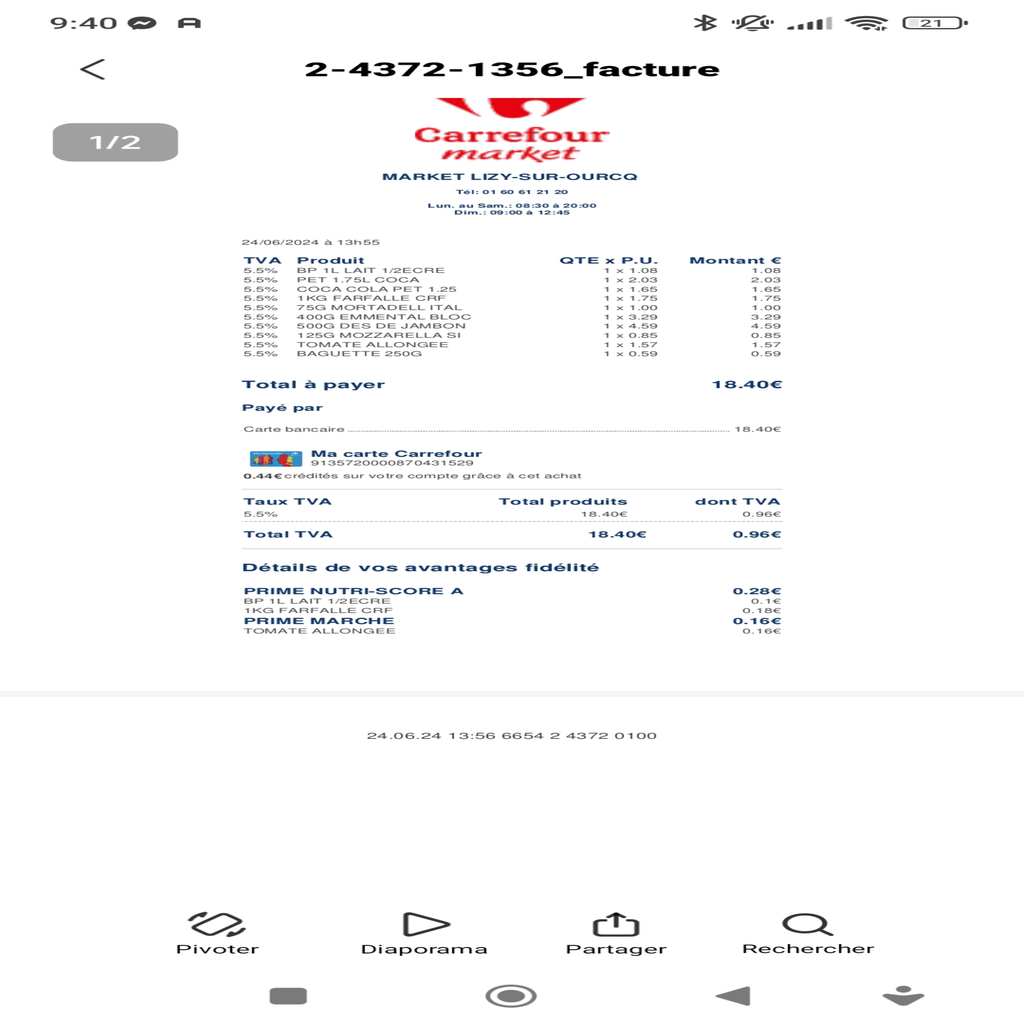recipt: (10, 48, 1018, 695)
